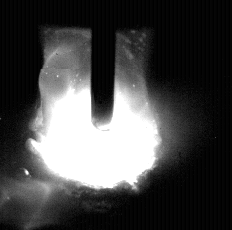arame: (92, 0, 115, 132)
poca: (33, 0, 160, 230)
